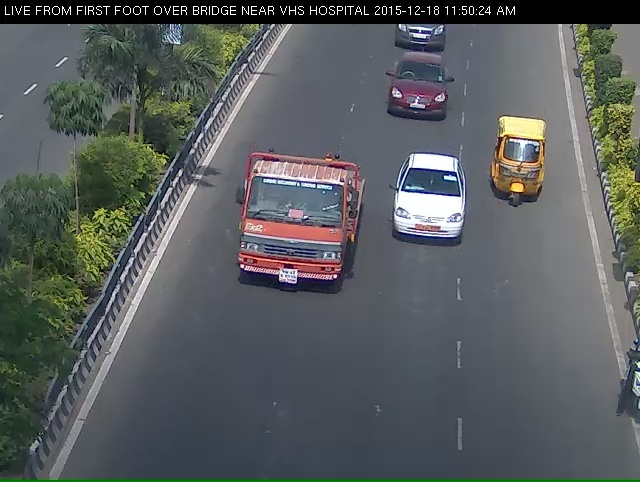Auto: (497, 121, 548, 218)
Bus: (233, 154, 361, 304)
Car: (389, 163, 465, 254), (390, 57, 452, 133), (391, 24, 450, 54)
